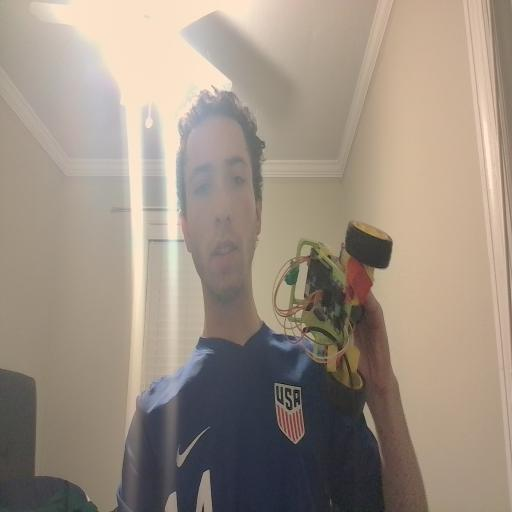green LEGO minifig: (284, 258, 300, 286)
